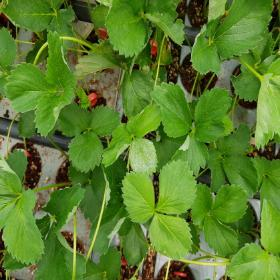Powdery Mildew Leaf: (88, 207, 129, 256), (168, 131, 209, 178), (101, 123, 133, 168), (101, 157, 128, 207), (125, 103, 163, 138), (129, 137, 159, 176)
